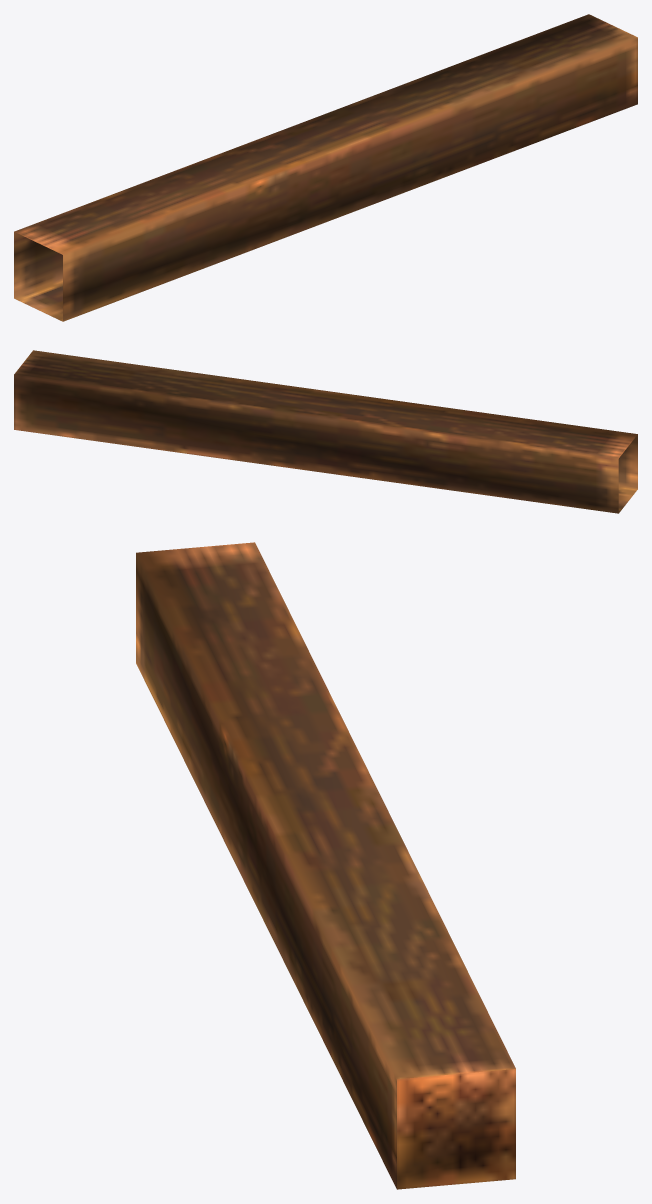
Rendered from SWORDLIGHT20_JAILBRACE132.fbx.
The picture shows the model from 3 angles, top to bottom: view 1: azimuth 30°, elevation 25°; view 2: azimuth 150°, elevation 25°; view 3: azimuth 270°, elevation 25°; orthographic projection. The views are drawn at different scales.
Visible parts, largest first — view 1: SWORDLIGHT20_JAILBRACE132; view 2: SWORDLIGHT20_JAILBRACE132; view 3: SWORDLIGHT20_JAILBRACE132.
Part boxes in pixels (bbox=[...]): SWORDLIGHT20_JAILBRACE132: bbox=[14, 14, 637, 321]; SWORDLIGHT20_JAILBRACE132: bbox=[14, 350, 637, 513]; SWORDLIGHT20_JAILBRACE132: bbox=[136, 542, 515, 1189].
Size of the model in its own units: 41753 by 4000 by 12499.
1 material, 1 textured.
